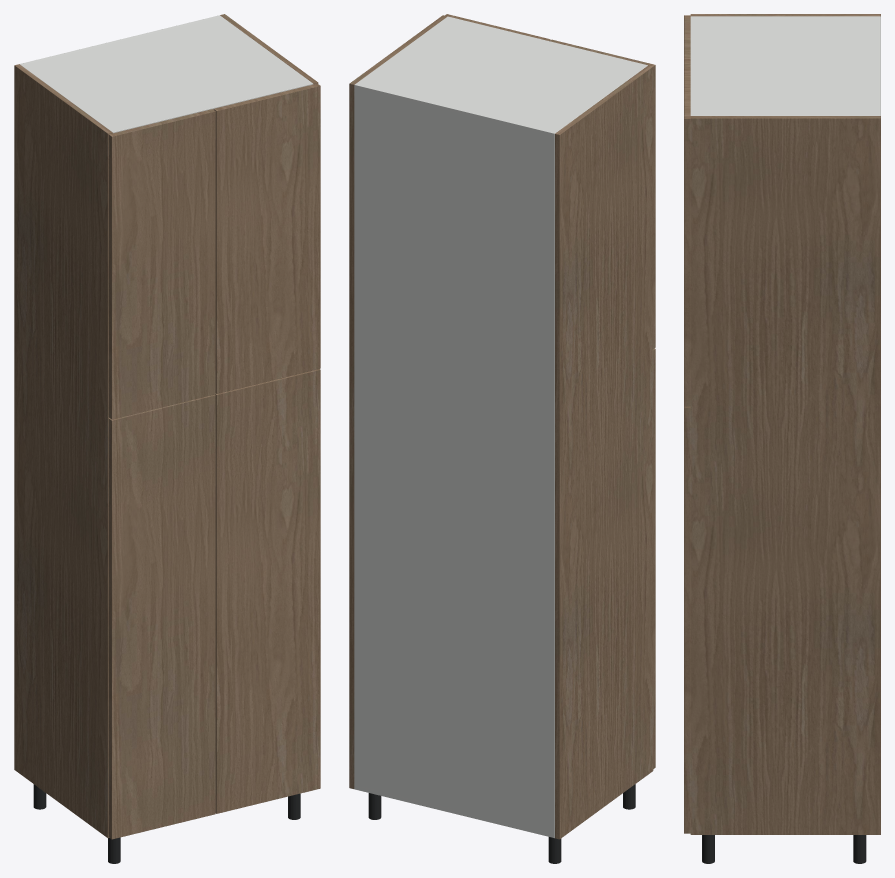
Rendered from oppein-pb-mnw-pc3096.glb.
The picture shows the model from 3 angles, left to right: view 1: azimuth 30°, elevation 25°; view 2: azimuth 150°, elevation 25°; view 3: azimuth 270°, elevation 25°; orthographic projection.
Visible parts, largest first — view 1: Cabinet side, Door, Door.001, Door.002, Door.003, Cabinet top; view 2: Cabinet back, Cabinet side, Cabinet top, Cabinet side.001, Door, Door.002; view 3: Cabinet side.001, Cabinet top, Door.001, Door.003, Cabinet side, Cabinet back, Adjustable foot.002.
Part boxes in pixels (left/top/right/bottom): Cabinet side: left=14, top=64, right=112, bottom=837; Door: left=108, top=394, right=215, bottom=839; Door.001: left=215, top=369, right=320, bottom=813; Door.002: left=108, top=109, right=215, bottom=419; Door.003: left=213, top=83, right=320, bottom=393; Cabinet top: left=21, top=16, right=313, bottom=133; Cabinet back: left=354, top=83, right=556, bottom=838; Cabinet side: left=555, top=65, right=653, bottom=839; Cabinet top: left=356, top=16, right=647, bottom=138; Cabinet side.001: left=349, top=15, right=447, bottom=788; Door: left=653, top=348, right=655, bottom=768; Door.002: left=549, top=39, right=655, bottom=348; Cabinet side.001: left=690, top=116, right=880, bottom=834; Cabinet top: left=690, top=16, right=876, bottom=115; Door.001: left=684, top=406, right=690, bottom=833; Door.003: left=684, top=67, right=690, bottom=406; Cabinet side: left=690, top=14, right=880, bottom=16; Cabinet back: left=877, top=16, right=880, bottom=115; Adjustable foot.002: left=853, top=835, right=866, bottom=863.
Size of the model in its own units: 0.762 by 2.55 by 0.6064.
Materials: 3 (1 with a texture image).
